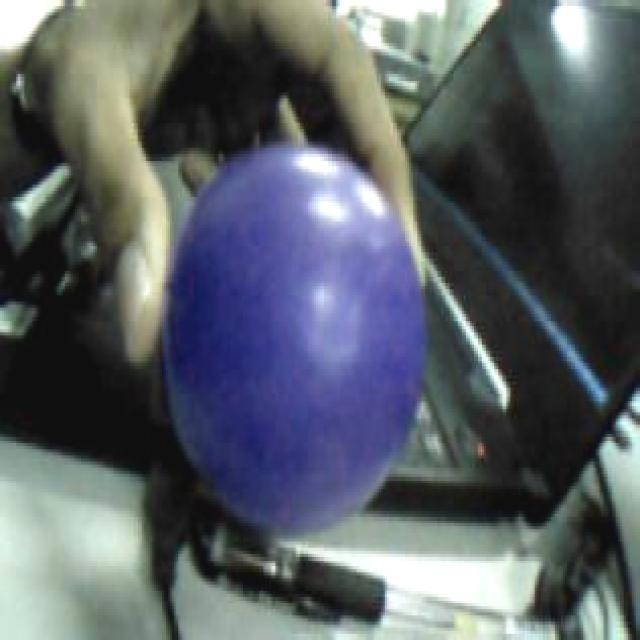BallPurple: (160, 140, 425, 532)
